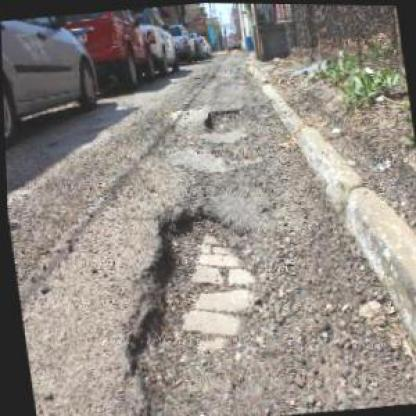pothole: (97, 197, 290, 415), (198, 101, 245, 136)
